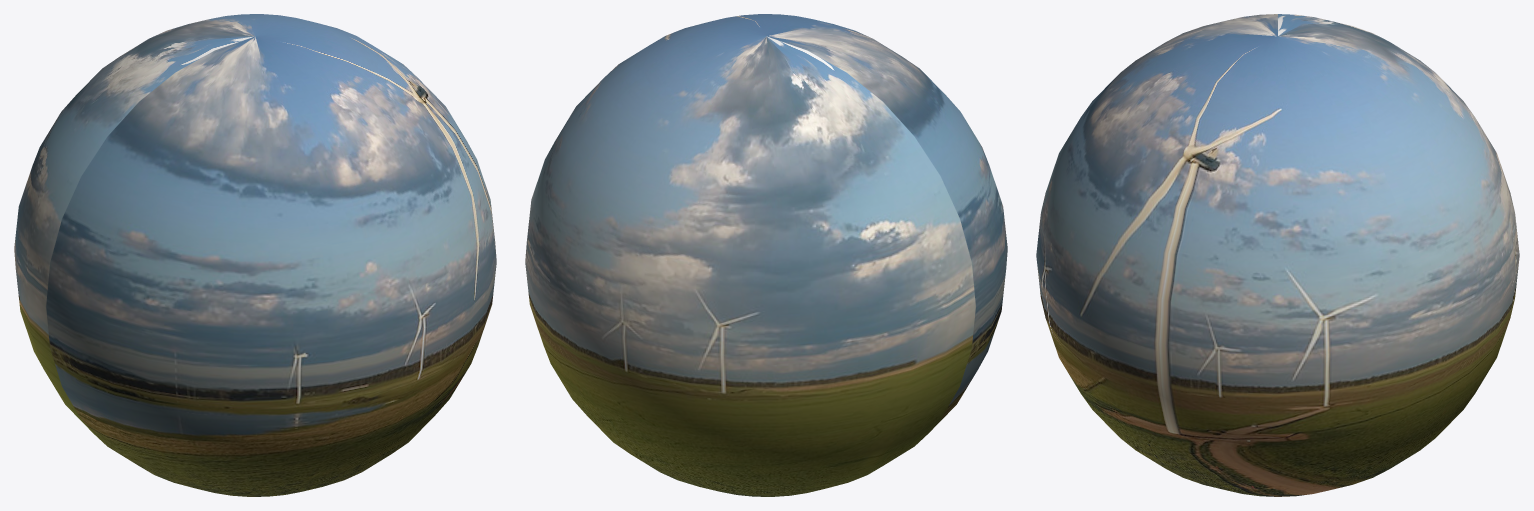
The model's file is niandu.glb.
3 renders of one model, left to right at view 1: azimuth 30°, elevation 25°; view 2: azimuth 150°, elevation 25°; view 3: azimuth 270°, elevation 25°, orthographic.
Visible parts, largest first — view 1: Esfera; view 2: Esfera; view 3: Esfera.
Part boxes in pixels (x1,y1,x2,y2): Esfera: [14, 14, 496, 496]; Esfera: [525, 14, 1007, 496]; Esfera: [1036, 14, 1519, 496].
Size of the model in its own units: 2 by 2 by 2.
Materials: 3 (3 with a texture image).
